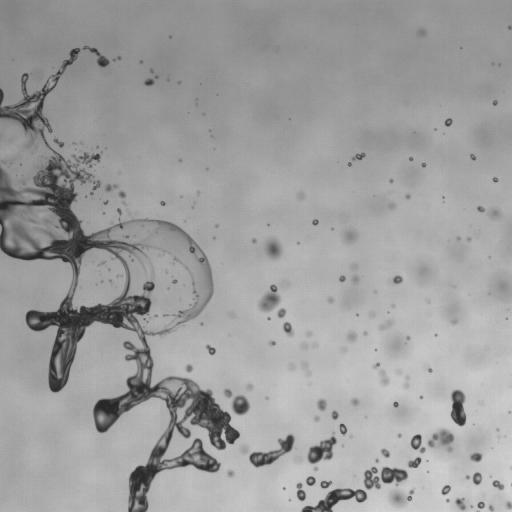droplet: (307, 434, 336, 464), (257, 284, 281, 312), (427, 428, 454, 452), (388, 488, 414, 507), (264, 238, 282, 259), (231, 395, 249, 415), (410, 434, 425, 453), (465, 472, 482, 485), (343, 229, 356, 244), (296, 483, 306, 500), (283, 322, 294, 336), (407, 457, 421, 468), (488, 208, 501, 219), (469, 452, 482, 462), (455, 497, 465, 510), (492, 480, 504, 490), (347, 331, 356, 342), (317, 399, 326, 410), (352, 153, 365, 160), (277, 308, 286, 318), (339, 423, 347, 434), (320, 480, 331, 488), (105, 184, 117, 191), (206, 345, 215, 354), (381, 448, 390, 457), (306, 476, 315, 485), (441, 485, 450, 494), (393, 275, 402, 283), (240, 445, 249, 453), (144, 78, 154, 85), (444, 118, 452, 126), (351, 275, 359, 283), (185, 364, 193, 372), (224, 389, 232, 397), (331, 410, 338, 419), (118, 190, 125, 198), (351, 398, 359, 405), (418, 29, 425, 36), (227, 470, 234, 477), (477, 206, 484, 212), (506, 501, 511, 509), (312, 219, 318, 225), (339, 275, 345, 281), (373, 363, 379, 369), (289, 364, 295, 370), (246, 384, 252, 390), (302, 362, 307, 369), (470, 154, 475, 160), (492, 177, 498, 182), (298, 193, 304, 198), (306, 331, 312, 336), (301, 343, 307, 348), (488, 505, 493, 511), (405, 194, 410, 199), (328, 297, 333, 302), (393, 402, 398, 407), (314, 416, 319, 421), (269, 341, 275, 345), (295, 457, 301, 461), (493, 100, 497, 105), (390, 203, 394, 208), (117, 209, 121, 214), (252, 238, 256, 243), (172, 279, 177, 283), (428, 367, 432, 372), (307, 370, 311, 375), (389, 179, 393, 183), (104, 200, 108, 204), (161, 201, 165, 205), (452, 320, 456, 324), (363, 331, 367, 335), (404, 383, 408, 387), (422, 162, 425, 167), (284, 281, 287, 286), (467, 237, 471, 240), (100, 261, 104, 264), (397, 370, 400, 374), (397, 434, 401, 437), (314, 466, 317, 470), (117, 56, 120, 59), (409, 157, 412, 160), (3, 160, 6, 163), (348, 163, 351, 166), (314, 343, 317, 346), (375, 459, 378, 462), (446, 499, 449, 502), (509, 26, 511, 29), (150, 69, 152, 72), (197, 191, 199, 194), (123, 202, 125, 205), (165, 270, 167, 273), (370, 312, 372, 315), (164, 314, 167, 316), (407, 336, 409, 339), (406, 376, 409, 378), (420, 396, 423, 398), (215, 224, 217, 226), (457, 237, 459, 239), (283, 487, 285, 489)
ligament: (0, 48, 239, 511), (300, 466, 408, 511), (249, 434, 294, 467), (450, 389, 466, 426), (83, 46, 109, 67), (379, 369, 389, 386), (476, 495, 485, 511), (379, 320, 392, 330), (53, 137, 63, 147), (175, 250, 181, 254)
